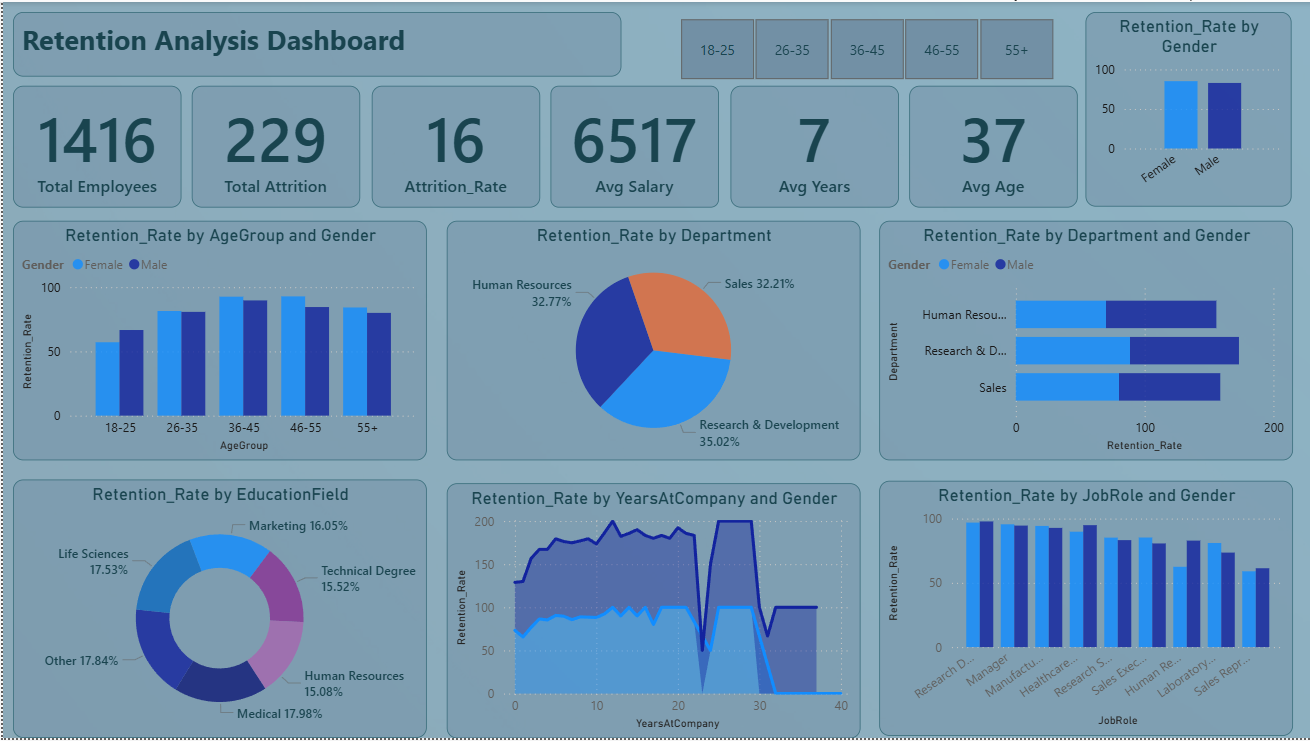

The page's visual inventory and layout, read from the dashboard file:
{"tool":"powerbi","page":{"name":"Retention_analysis","canvas":[1280,720],"ordinal":1},"visuals":[{"type":"card","fields":{"Values":["HR_Analytics.Total Attrition"]},"box":[185.2,82.3,164.7,119.4],"z":0},{"type":"card","fields":{"Values":["HR_Analytics.Attrition_Rate"]},"box":[360.5,82.3,164.7,119.4],"z":1000},{"type":"card","fields":{"Values":["HR_Analytics.Avg Salary"]},"box":[535.8,82.3,164.7,119.4],"z":2000},{"type":"card","fields":{"Values":["HR_Analytics.Avg Years"]},"box":[711.1,82.3,164.7,119.4],"z":3000},{"type":"card","fields":{"Values":["HR_Analytics.Avg Age"]},"box":[886.5,82.3,164.7,119.4],"z":4000},{"type":"card","fields":{"Values":["HR_Analytics.Total Employees"]},"box":[9.6,82.3,165,119],"z":5000},{"type":"clusteredColumnChart","fields":{"Y":["HR_Analytics.Retention_Rate"],"Category":["HR_Analytics.AgeGroup"],"Series":["HR_Analytics.Gender"]},"box":[9.6,214.1,404.8,234.6],"z":6000},{"type":"pieChart","fields":{"Y":["HR_Analytics.Retention_Rate"],"Category":["HR_Analytics.Department"]},"box":[433.6,214.1,404.8,234.6],"z":7000},{"type":"barChart","fields":{"Category":["HR_Analytics.Department","HR_Analytics.AgeGroup"],"Series":["HR_Analytics.Gender"],"Y":["HR_Analytics.Retention_Rate"]},"box":[857.6,214.1,404.8,234.6],"z":8000},{"type":"donutChart","fields":{"Category":["HR_Analytics.EducationField"],"Y":["HR_Analytics.Retention_Rate"]},"box":[9.6,467.5,404.8,252.5],"z":9000},{"type":"stackedAreaChart","fields":{"Category":["HR_Analytics.YearsAtCompany"],"Series":["HR_Analytics.Gender"],"Y":["HR_Analytics.Retention_Rate"]},"box":[433.6,470.3,404.8,249.7],"z":10000},{"type":"clusteredColumnChart","fields":{"Category":["HR_Analytics.JobRole"],"Series":["HR_Analytics.Gender"],"Y":["HR_Analytics.Retention_Rate"]},"box":[857.6,467.9,404.8,249.7],"z":11000},{"type":"clusteredColumnChart","fields":{"Category":["HR_Analytics.Gender"],"Y":["HR_Analytics.Retention_Rate"]},"box":[1059.4,9.6,201.7,190.7],"z":12000},{"type":"slicer","fields":{"Values":["HR_Analytics.AgeGroup"]},"box":[636.7,9.6,414.4,72.7],"z":13000},{"type":"textbox","box":[9.6,9.6,595.5,63.1],"z":14000}]}

Visuals, with their boxes in screenshot pixels (x1, y1, x2, y2), scaled from the page's 1280x720 canvas onto the 1310x741 screenshot:
card - HR_Analytics.Total Attrition: box(190, 85, 358, 208)
card - HR_Analytics.Attrition_Rate: box(369, 85, 538, 208)
card - HR_Analytics.Avg Salary: box(548, 85, 717, 208)
card - HR_Analytics.Avg Years: box(728, 85, 896, 208)
card - HR_Analytics.Avg Age: box(907, 85, 1076, 208)
card - HR_Analytics.Total Employees: box(10, 85, 179, 207)
clusteredColumnChart - HR_Analytics.Retention_Rate x HR_Analytics.AgeGroup: box(10, 220, 424, 462)
pieChart - HR_Analytics.Retention_Rate x HR_Analytics.Department: box(444, 220, 858, 462)
barChart - HR_Analytics.Department x HR_Analytics.AgeGroup: box(878, 220, 1292, 462)
donutChart - HR_Analytics.EducationField x HR_Analytics.Retention_Rate: box(10, 481, 424, 740)
stackedAreaChart - HR_Analytics.YearsAtCompany x HR_Analytics.Gender: box(444, 484, 858, 740)
clusteredColumnChart - HR_Analytics.JobRole x HR_Analytics.Gender: box(878, 482, 1292, 739)
clusteredColumnChart - HR_Analytics.Gender x HR_Analytics.Retention_Rate: box(1084, 10, 1291, 206)
slicer - HR_Analytics.AgeGroup: box(652, 10, 1076, 85)
textbox: box(10, 10, 619, 75)
